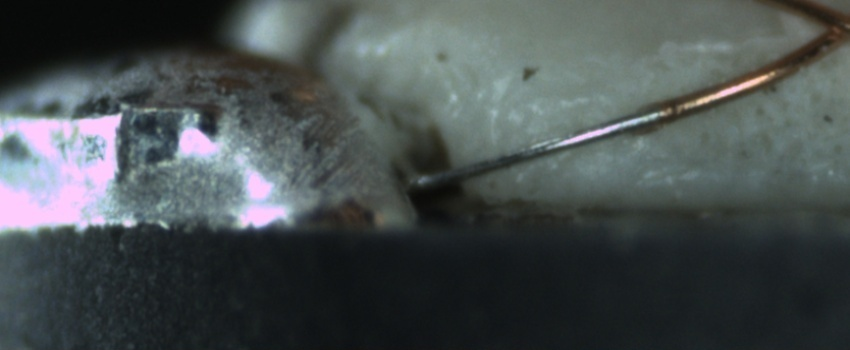CL: (796, 3, 850, 60)
DL: (630, 27, 800, 71), (490, 82, 623, 134)
TS: (406, 106, 667, 189)
